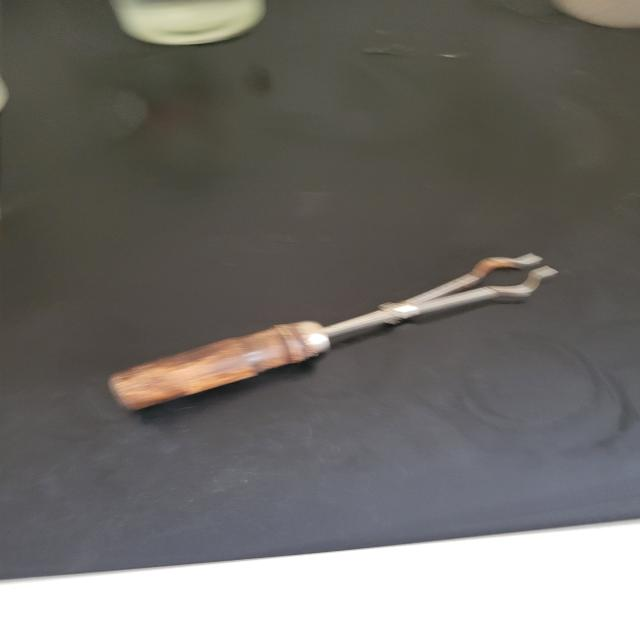TestTube_Holder: (89, 210, 570, 448)
